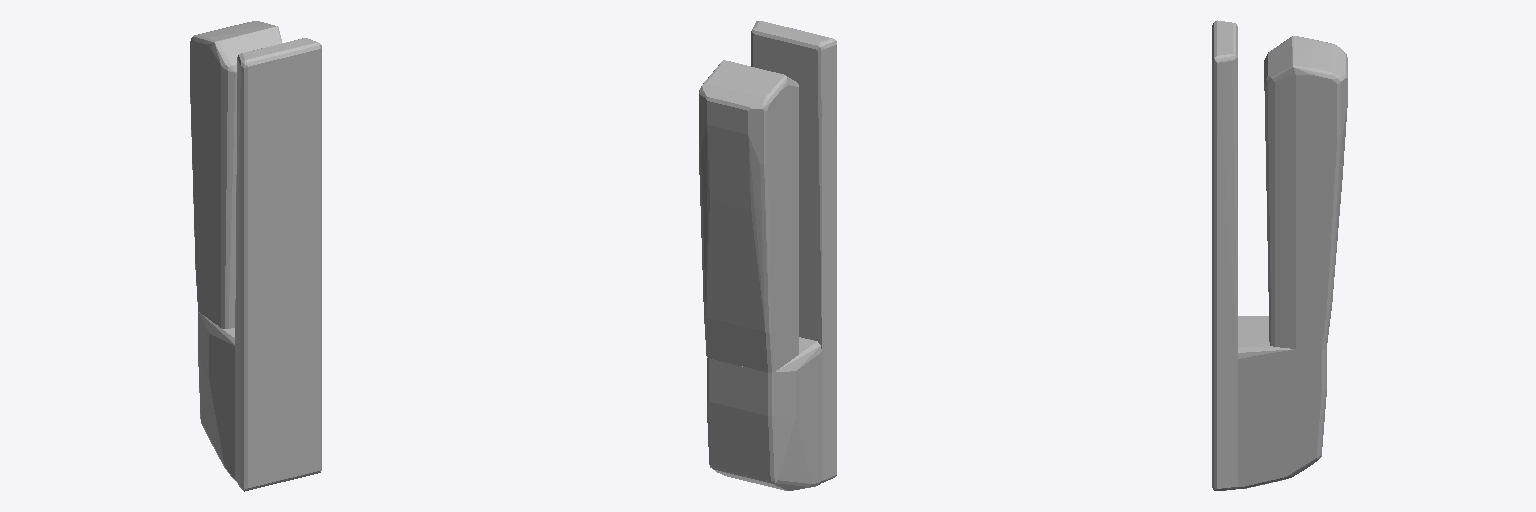
robot.urdf — root:
<robot name="root">
  <link name="link_coacd_convex_piece_0">
    <inertial>
      <origin xyz="0 0 0" rpy="0 0 0"/>
      <inertia ixx="1.16E-02" ixy="-6.04E-06" ixz="-1.62E-06" iyy="1.98E-03" iyz="5.92E-05" izz="1.03E-02"/>
    </inertial>
    <visual>
      <origin xyz="0 0 0" rpy="0 0 0"/>
      <geometry>
        <mesh filename="coacd_convex_piece_0.obj" scale="1.0000E+00 1.0000E+00 1.0000E+00"/>
      </geometry>
      <material name="">
        <color rgba="7.50E-01 7.50E-01 7.50E-01 1"/>
      </material>
    </visual>
    <collision>
      <origin xyz="0 0 0" rpy="0 0 0"/>
      <geometry>
        <mesh filename="coacd_convex_piece_0.obj" scale="1.0000E+00 1.0000E+00 1.0000E+00"/>
      </geometry>
    </collision>
  </link>
  <link name="link_coacd_convex_piece_1">
    <inertial>
      <origin xyz="0 0 0" rpy="0 0 0"/>
      <inertia ixx="1.28E-02" ixy="-5.76E-05" ixz="-1.04E-05" iyy="5.64E-04" iyz="1.49E-04" izz="1.28E-02"/>
    </inertial>
    <visual>
      <origin xyz="0 0 0" rpy="0 0 0"/>
      <geometry>
        <mesh filename="coacd_convex_piece_1.obj" scale="1.0000E+00 1.0000E+00 1.0000E+00"/>
      </geometry>
      <material name="">
        <color rgba="7.50E-01 7.50E-01 7.50E-01 1"/>
      </material>
    </visual>
    <collision>
      <origin xyz="0 0 0" rpy="0 0 0"/>
      <geometry>
        <mesh filename="coacd_convex_piece_1.obj" scale="1.0000E+00 1.0000E+00 1.0000E+00"/>
      </geometry>
    </collision>
  </link>
  <joint name="link_coacd_convex_piece_1_joint" type="fixed">
    <origin xyz="0 0 0" rpy="0 0 0"/>
    <parent link="link_coacd_convex_piece_0"/>
    <child link="link_coacd_convex_piece_1"/>
  </joint>
  <link name="link_coacd_convex_piece_2">
    <inertial>
      <origin xyz="0 0 0" rpy="0 0 0"/>
      <inertia ixx="1.14E-02" ixy="1.17E-04" ixz="-5.33E-05" iyy="1.17E-03" iyz="1.68E-03" izz="1.10E-02"/>
    </inertial>
    <visual>
      <origin xyz="0 0 0" rpy="0 0 0"/>
      <geometry>
        <mesh filename="coacd_convex_piece_2.obj" scale="1.0000E+00 1.0000E+00 1.0000E+00"/>
      </geometry>
      <material name="">
        <color rgba="7.50E-01 7.50E-01 7.50E-01 1"/>
      </material>
    </visual>
    <collision>
      <origin xyz="0 0 0" rpy="0 0 0"/>
      <geometry>
        <mesh filename="coacd_convex_piece_2.obj" scale="1.0000E+00 1.0000E+00 1.0000E+00"/>
      </geometry>
    </collision>
  </link>
  <joint name="link_coacd_convex_piece_2_joint" type="fixed">
    <origin xyz="0 0 0" rpy="0 0 0"/>
    <parent link="link_coacd_convex_piece_1"/>
    <child link="link_coacd_convex_piece_2"/>
  </joint>
</robot>

--- Facts derived from the render (not from the file) ---
3 views of the same robot in one strip: view 1: azimuth 30°, elevation 25°; view 2: azimuth 150°, elevation 25°; view 3: azimuth 270°, elevation 25° (orthographic).
Robot: root — 3 links, 2 joints (2 fixed); root link link_coacd_convex_piece_0; default pose: every joint at zero.
Links seen in each view (by area): view 1: link_coacd_convex_piece_0, link_coacd_convex_piece_2, link_coacd_convex_piece_1; view 2: link_coacd_convex_piece_2, link_coacd_convex_piece_0, link_coacd_convex_piece_1; view 3: link_coacd_convex_piece_2, link_coacd_convex_piece_1, link_coacd_convex_piece_0.
Link boxes in pixels (left/top/right/bottom): link_coacd_convex_piece_0: left=235, top=38, right=321, bottom=491; link_coacd_convex_piece_2: left=190, top=21, right=281, bottom=328; link_coacd_convex_piece_1: left=198, top=312, right=235, bottom=480; link_coacd_convex_piece_2: left=699, top=60, right=798, bottom=372; link_coacd_convex_piece_0: left=751, top=21, right=836, bottom=482; link_coacd_convex_piece_1: left=707, top=337, right=821, bottom=490; link_coacd_convex_piece_2: left=1264, top=36, right=1347, bottom=348; link_coacd_convex_piece_1: left=1238, top=316, right=1326, bottom=488; link_coacd_convex_piece_0: left=1212, top=20, right=1237, bottom=490.
Size in the robot's own frame: 0.3648 by 0.5269 by 1.86 metres.
3 mesh visuals loaded from 3 distinct referenced files (3 OBJ).
